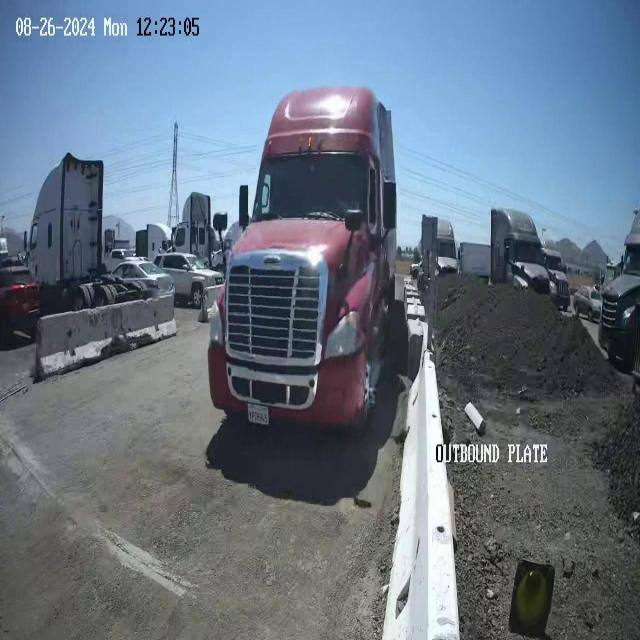TRUCK_OUT: (207, 84, 399, 434)
